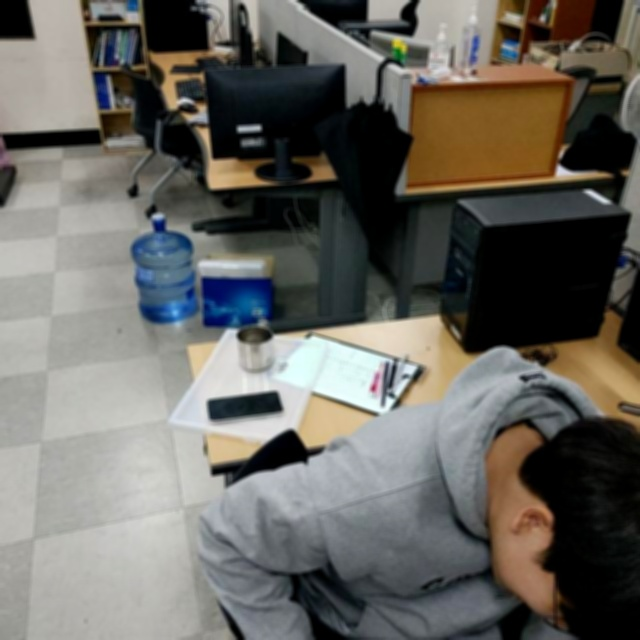cup: (235, 317, 276, 371)
phone: (206, 387, 284, 427)
